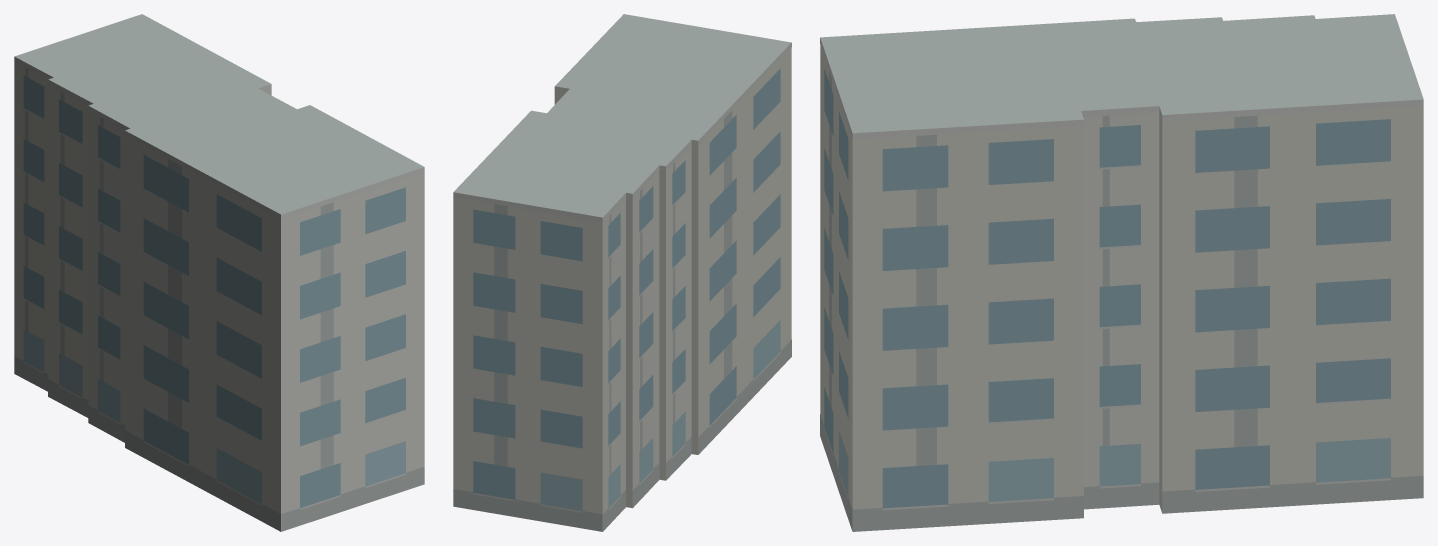
Rendered from survey-upis-32801319.glb.
3 views of the same model, side by side, from view 1: azimuth 30°, elevation 25°; view 2: azimuth 150°, elevation 25°; view 3: azimuth 270°, elevation 25° (orthographic). The views are drawn at different scales.
Parts seen in each view (by area): view 1: survey-upis-32801319.tmp; view 2: survey-upis-32801319.tmp; view 3: survey-upis-32801319.tmp.
Part boxes in pixels (<box>): survey-upis-32801319.tmp: <box>14,14,424,531</box>; survey-upis-32801319.tmp: <box>453,14,791,531</box>; survey-upis-32801319.tmp: <box>820,14,1423,531</box>.
Bounding box in the file's own units: 9.83 × 15.3 × 21.01.
